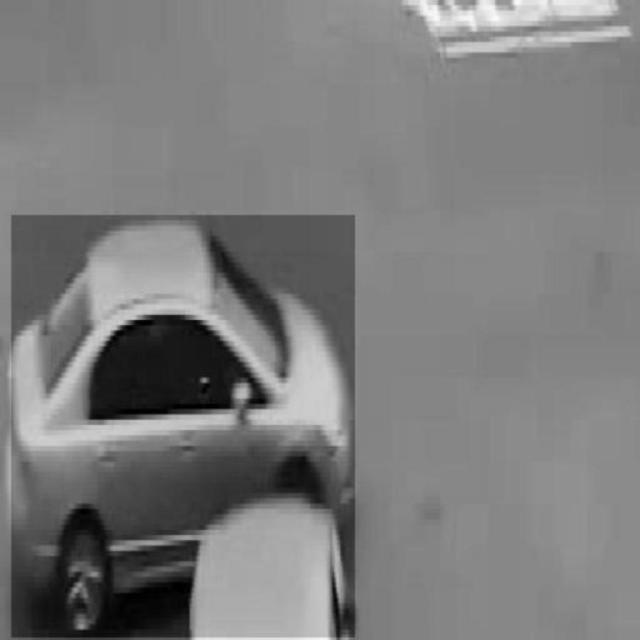accident: (12, 215, 356, 638)
